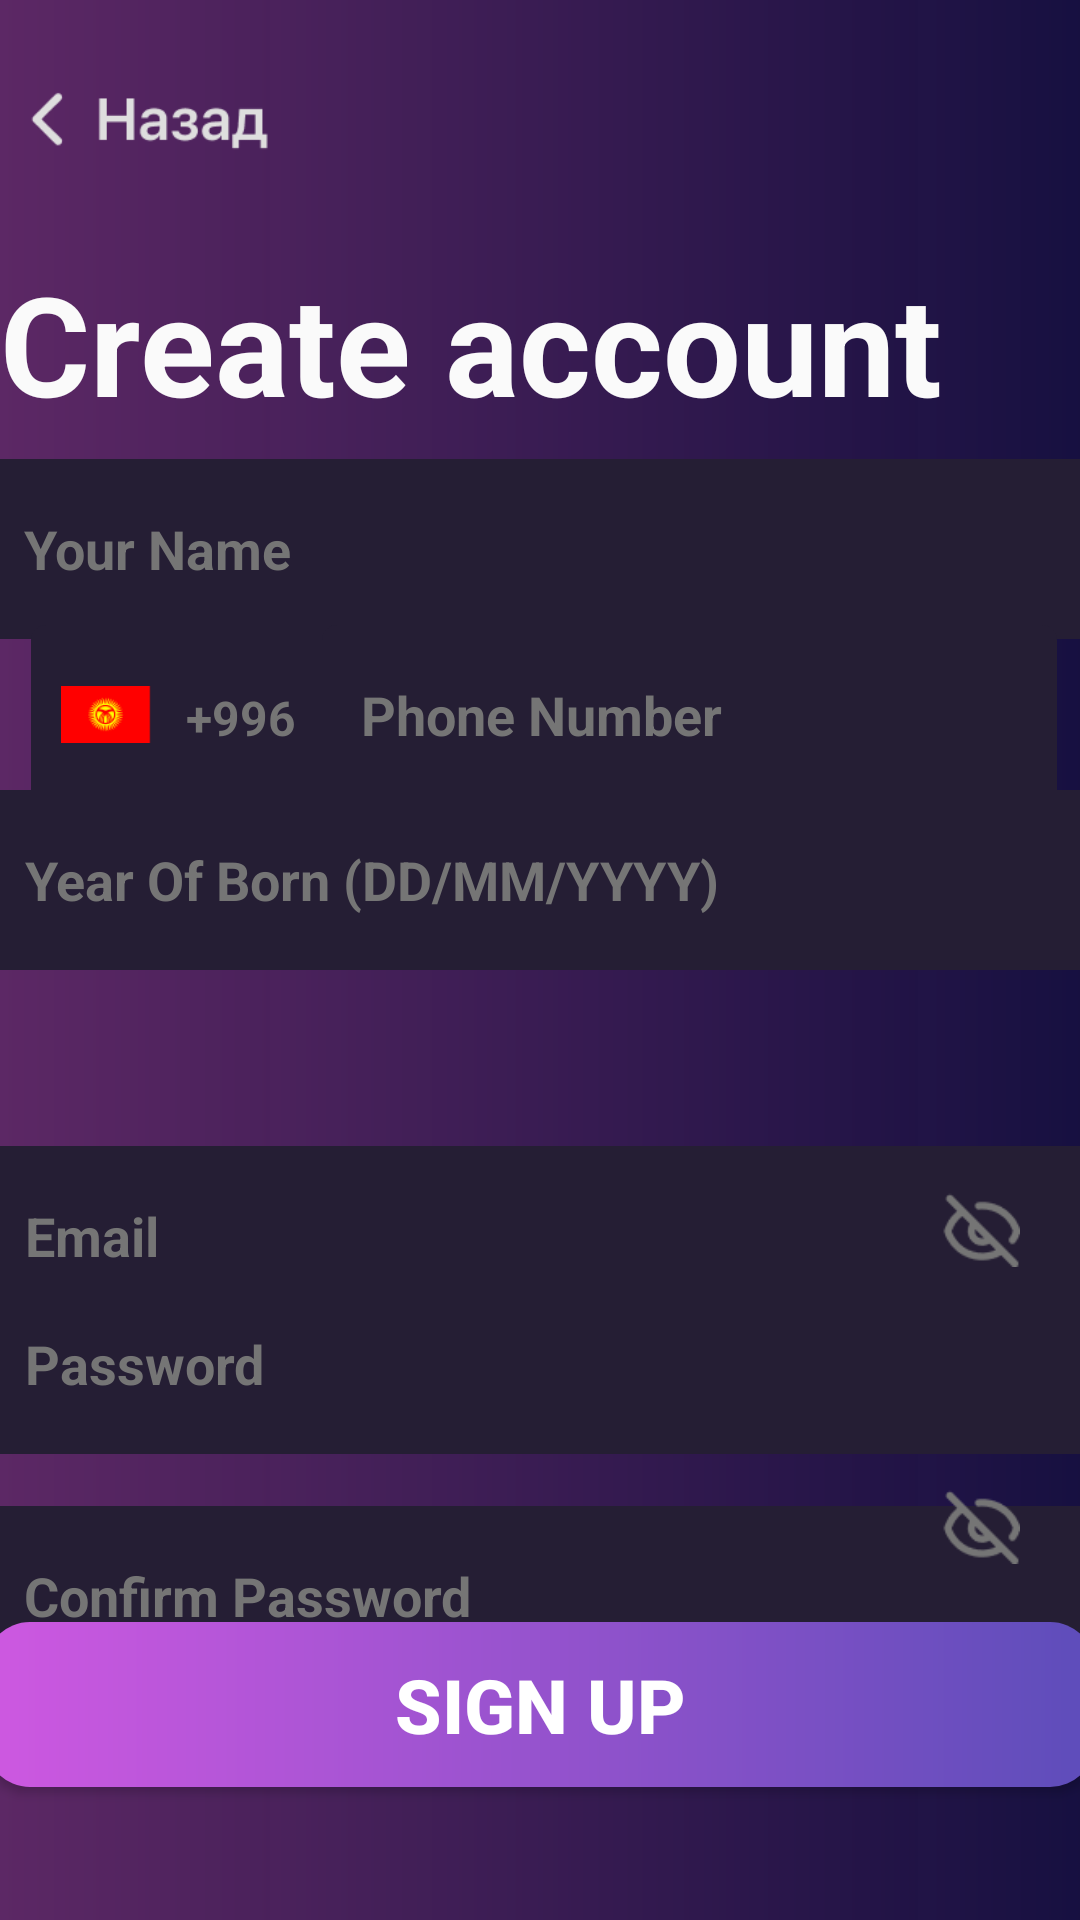

Screen size 1080×1920. Icon name, then its box in pixels as (x1, y1, x2, y2):
hidetext daniyar: (944, 1195, 1020, 1267), (944, 1491, 1020, 1564)
kgz daniyar: (61, 686, 151, 743)
